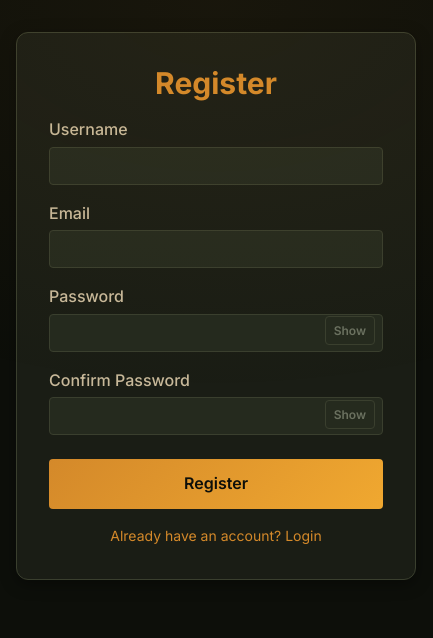
it: RegisterForm › shows validation error for password mismatch
Type "newuser" into the field labelled "Username" at {"x": 216, "y": 166}, box [49, 147, 383, 185]
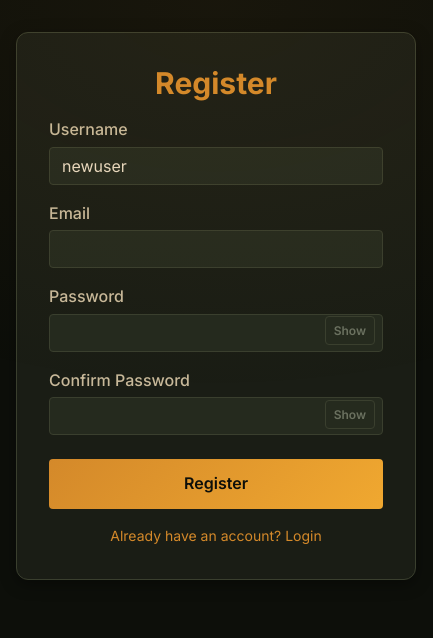
Type "new@test.com" into the field labelled "Email" at {"x": 216, "y": 249}, box [49, 230, 383, 268]
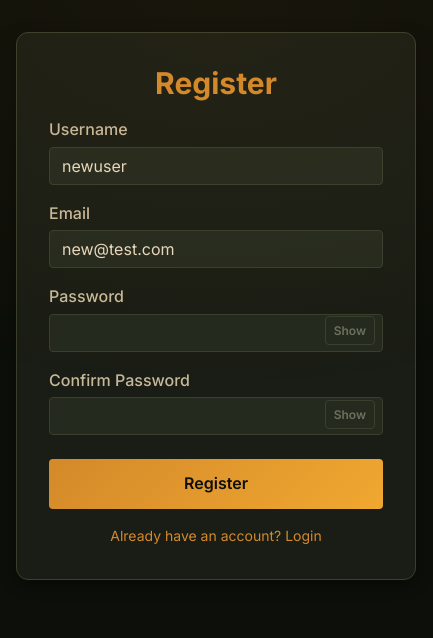
Type "password123" into the password field labelled "Password Show" at {"x": 216, "y": 333}, box [49, 314, 383, 352]
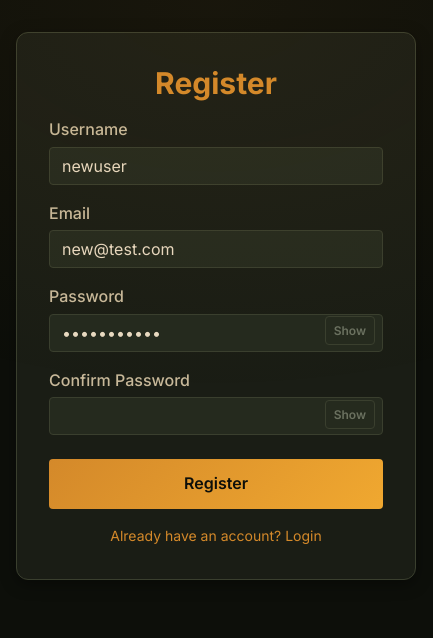
Type "password456" into the password field labelled "Confirm Password Show" at {"x": 216, "y": 416}, box [49, 397, 383, 435]
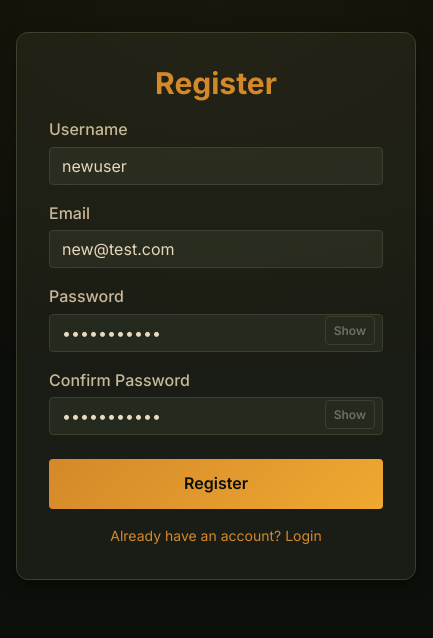
Click the button "Register" at {"x": 216, "y": 484}, box [49, 459, 383, 509]
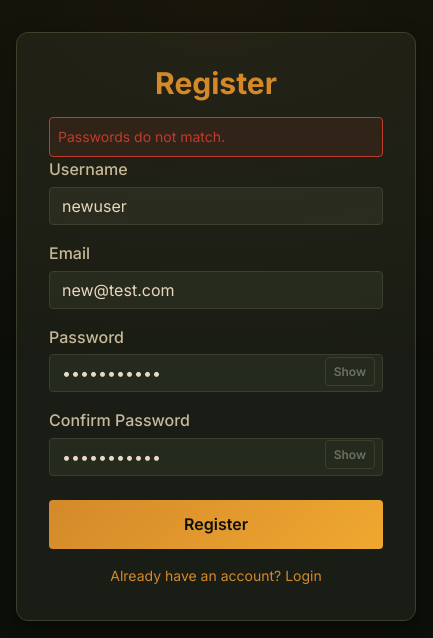
Expected: the message reads "Passwords do not match.", [58, 128, 225, 145]
